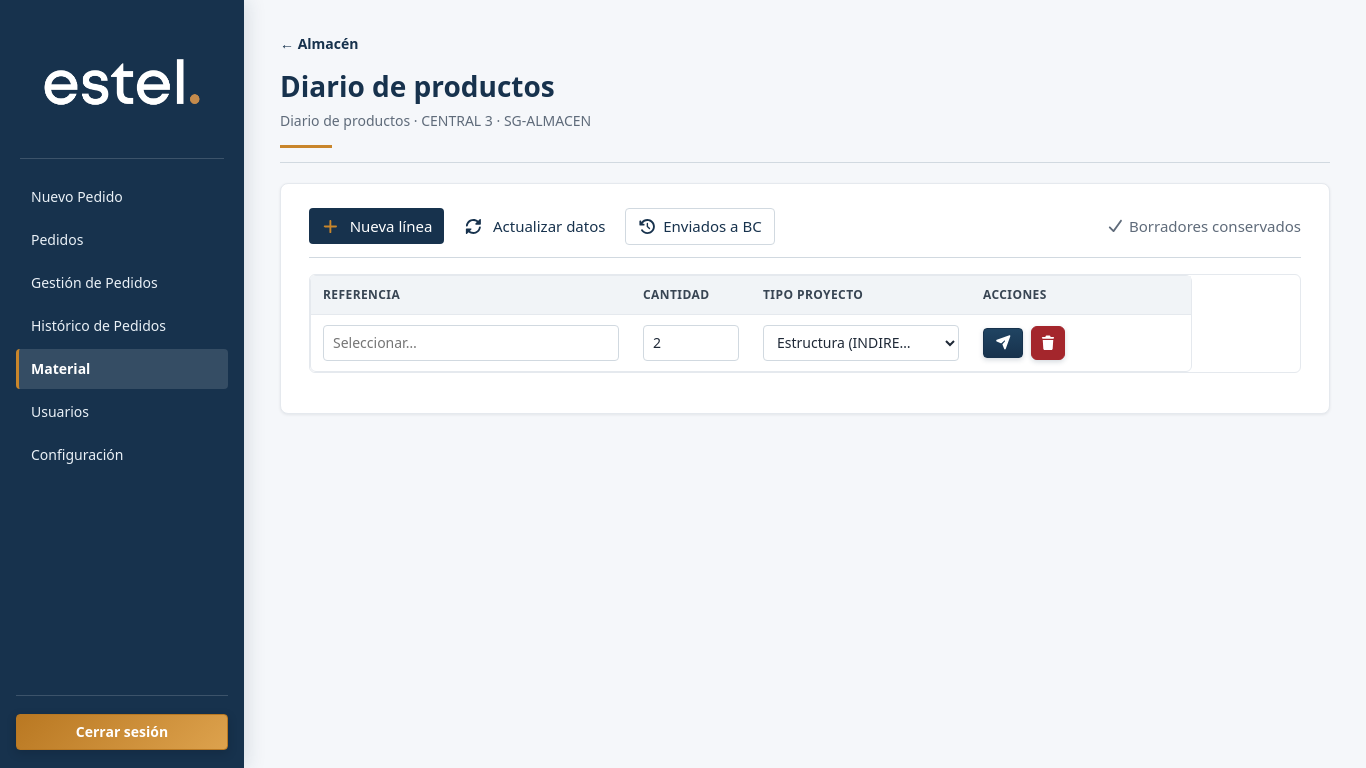
Test case: GM_KEY_CONFLICT conserva fila bloqueada sin ofrecer sustitución
The image size is (1366, 768).
Click the button named "Enviar a BC": (1003, 343) [983,328,1023,358]
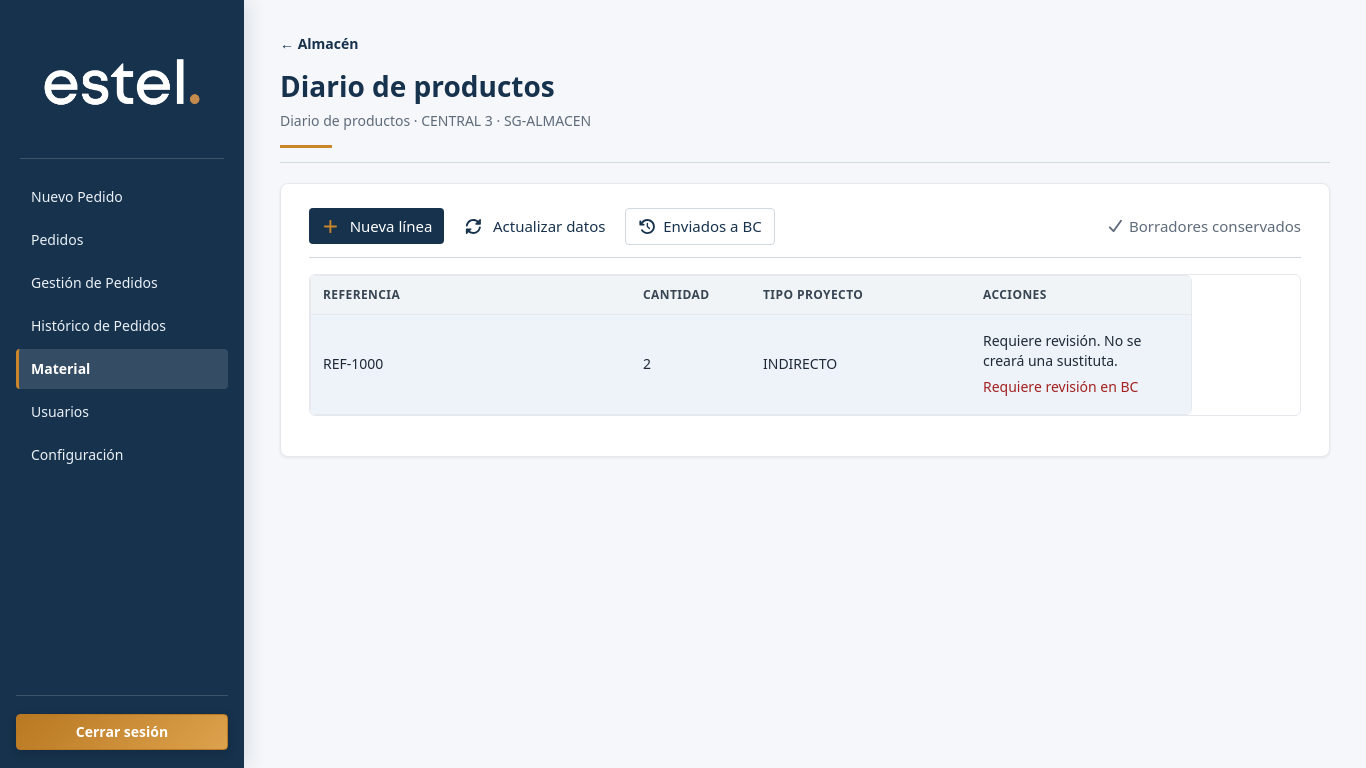
Check: the text "Requiere revisión en BC" is shown, box [983,377,1138,396]
